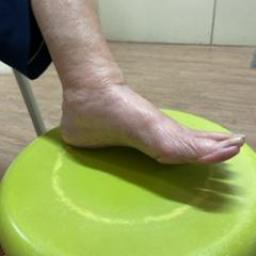Medial View -Left Foot-: (40, 46, 250, 198)
